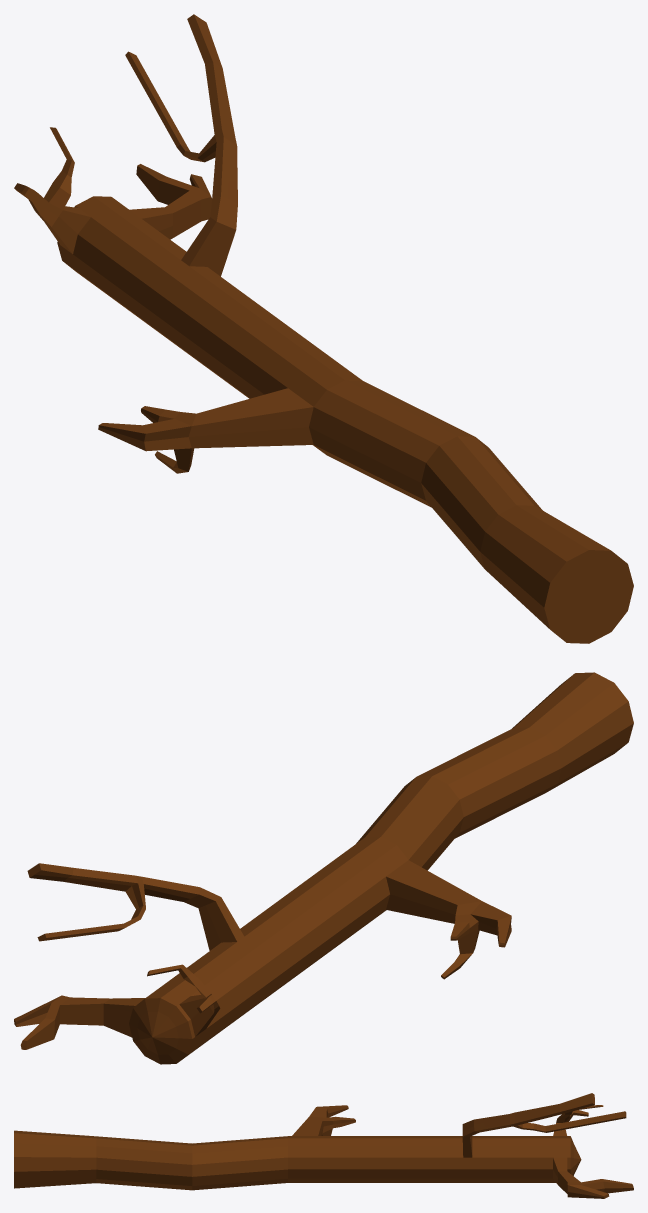
Rendered from yeni kopya2.fbx.
3 views of the same model, one above another, from view 1: azimuth 30°, elevation 25°; view 2: azimuth 150°, elevation 25°; view 3: azimuth 270°, elevation 25° (orthographic). The views are drawn at different scales.
Visible parts, largest first — view 1: Circle.002; view 2: Circle.002; view 3: Circle.002.
Part boxes in pixels (x1,y1,x2,y2): Circle.002: (14,14,633,643); Circle.002: (14,672,633,1064); Circle.002: (14,1093,633,1198).
Size of the model in its own units: 127 by 83.53 by 365.
